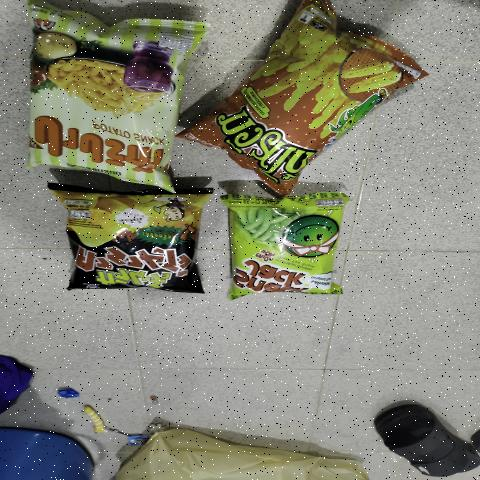karamujo: (82, 200, 198, 288)
paprika: (39, 33, 166, 162)
snack_jack: (233, 198, 342, 294)
twisco: (222, 26, 403, 156)
